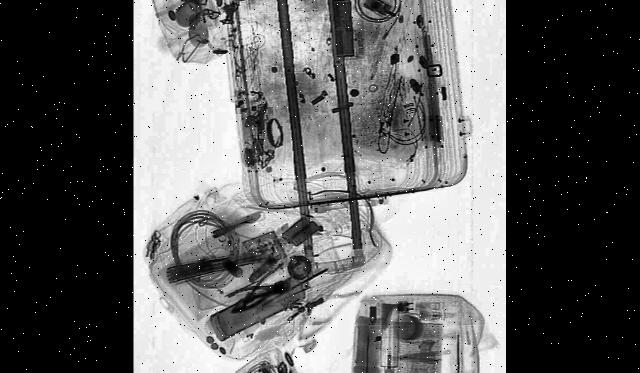Pliers: (228, 271, 291, 318), (240, 261, 290, 320)
